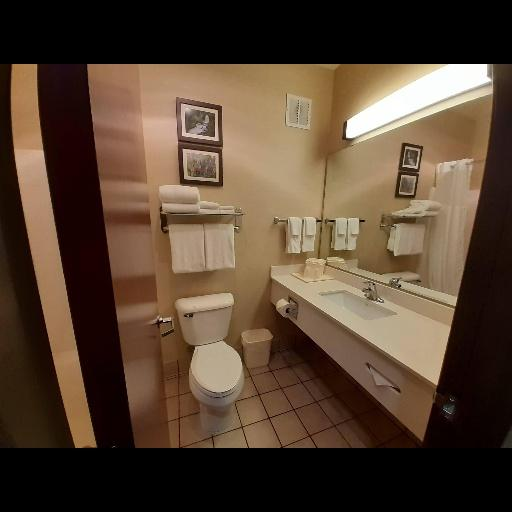clean_floor: (164, 339, 419, 452)
clean_sink: (265, 260, 448, 440)
clean_toilet: (174, 292, 246, 425)
disorganized_towel: (167, 223, 237, 274), (282, 218, 316, 255), (331, 216, 361, 252), (160, 185, 198, 212)
folded_towel: (200, 202, 237, 218)
